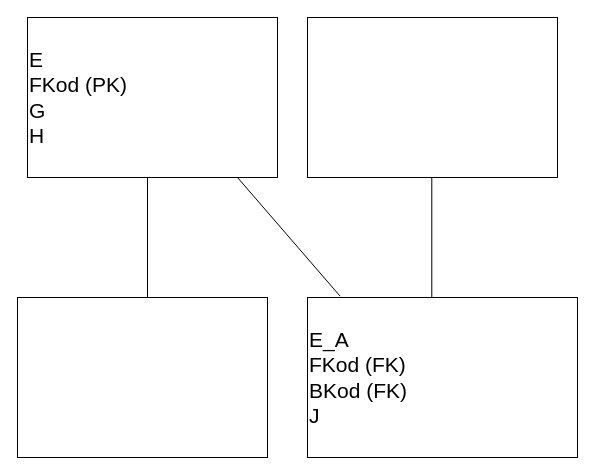
Image size: 595x475. Some labels were removed from this diagram. The centre of each missing label's shape, as x and y in pixels:
A BKod (PK) C D1 D2 D3: the point at 432,97
E_I FKod (FK) I: the point at 142,377
